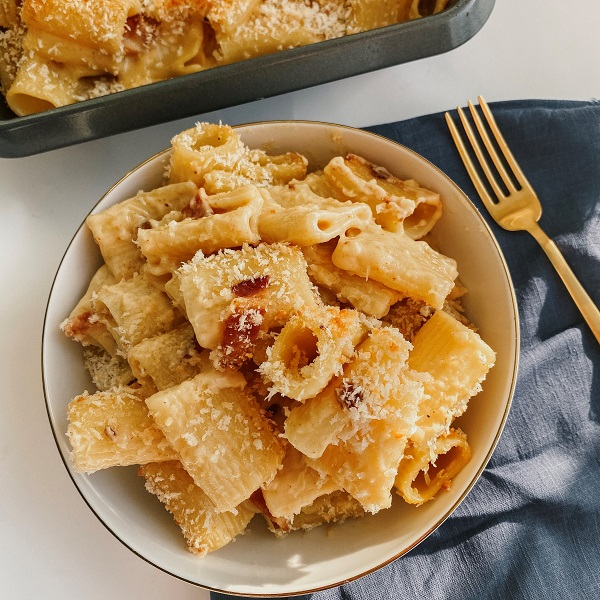cheese: (170, 236, 336, 388)
